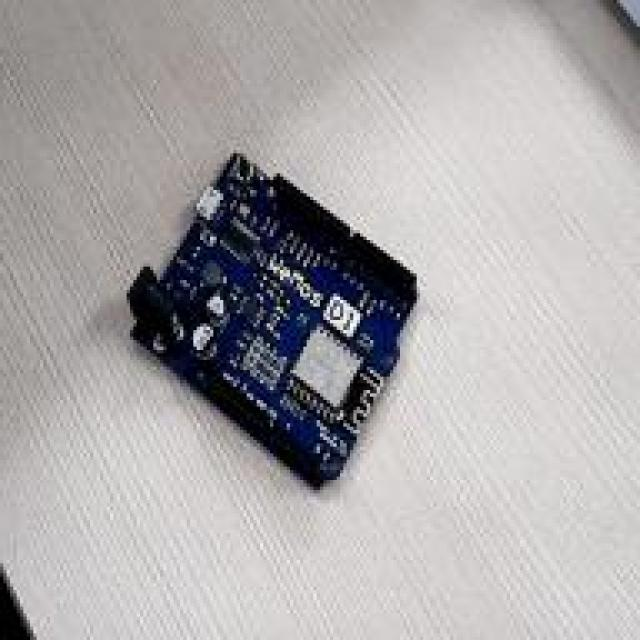Wemos: (128, 154, 414, 484)
